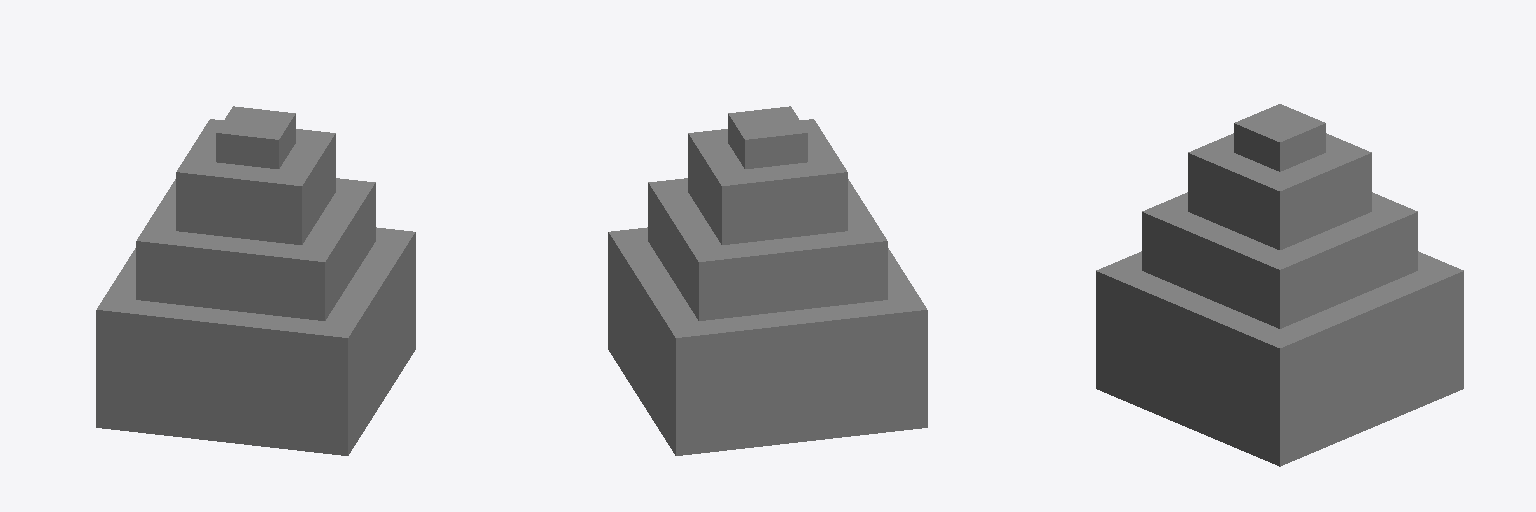
File: missile_head_conventional.obj
The picture shows the model from 3 angles: view 1: azimuth 30°, elevation 25°; view 2: azimuth 150°, elevation 25°; view 3: azimuth 270°, elevation 25°; orthographic projection.
Visible parts, largest first — view 1: group_4, group_3, group_5, group_2; view 2: group_4, group_3, group_5, group_2; view 3: group_4, group_3, group_5, group_2.
Part boxes in pixels (left/top/right/bottom): group_4: left=96, top=227, right=415, bottom=455; group_3: left=136, top=178, right=375, bottom=320; group_5: left=176, top=119, right=335, bottom=244; group_2: left=216, top=106, right=295, bottom=168; group_4: left=608, top=227, right=927, bottom=455; group_3: left=648, top=178, right=887, bottom=320; group_5: left=688, top=119, right=847, bottom=244; group_2: left=728, top=106, right=807, bottom=168; group_4: left=1096, top=251, right=1463, bottom=466; group_3: left=1142, top=192, right=1417, bottom=328; group_5: left=1188, top=133, right=1371, bottom=249; group_2: left=1234, top=104, right=1325, bottom=171.
Size of the model in its own units: 71.27 by 56.69 by 71.27.